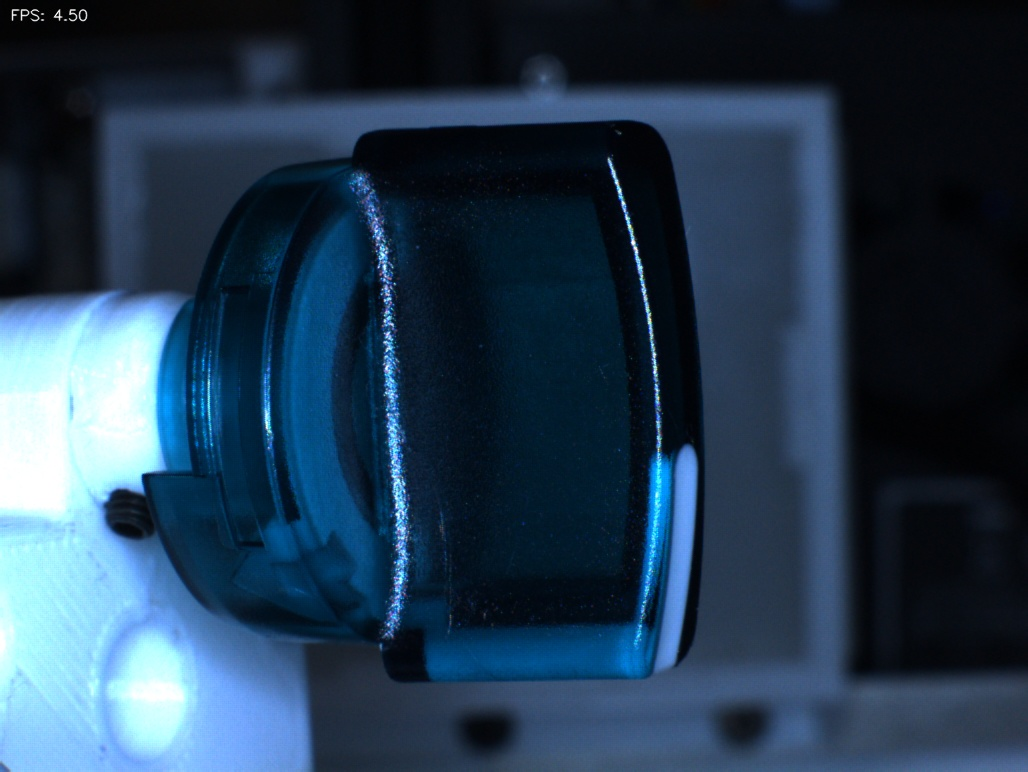Givrage: (413, 453, 468, 649)
